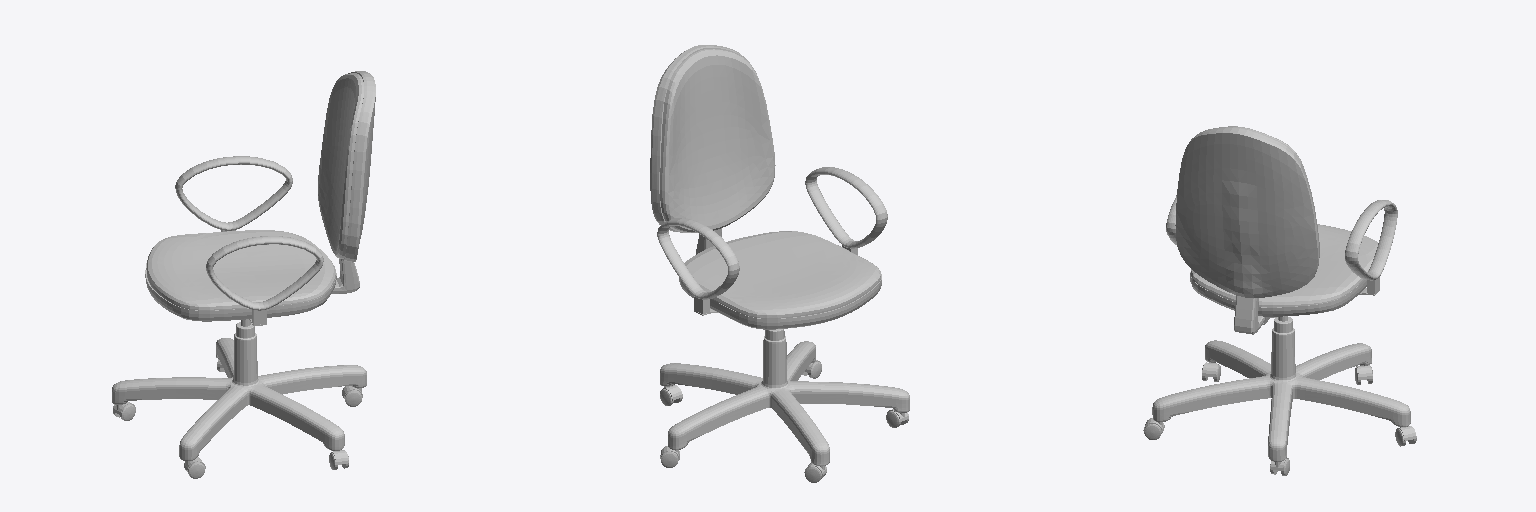
File: Cadeira.obj
3 views of the same model, side by side, from view 1: azimuth 30°, elevation 25°; view 2: azimuth 150°, elevation 25°; view 3: azimuth 270°, elevation 25° (orthographic).
Visible parts, largest first — view 1: Material1-material-material, Material3-material-material, Material4-material-material, Material2-material-material, Material0-material-material; view 2: Material1-material-material, Material3-material-material, Material4-material-material, Material2-material-material, Material0-material-material; view 3: Material2-material-material, Material3-material-material, Material1-material-material, Material4-material-material, Material0-material-material.
Boxes of the visible parts, x1,y1,x2,y2 form: Material1-material-material: [146, 73, 363, 310]; Material3-material-material: [112, 322, 366, 460]; Material4-material-material: [175, 156, 359, 324]; Material2-material-material: [145, 71, 375, 321]; Material0-material-material: [113, 319, 362, 478]; Material1-material-material: [660, 49, 880, 318]; Material3-material-material: [660, 329, 909, 465]; Material4-material-material: [657, 167, 887, 313]; Material2-material-material: [650, 45, 881, 329]; Material0-material-material: [660, 309, 908, 482]; Material2-material-material: [1175, 127, 1366, 316]; Material3-material-material: [1152, 317, 1410, 461]; Material1-material-material: [1190, 126, 1377, 307]; Material4-material-material: [1166, 195, 1397, 334]; Material0-material-material: [1143, 288, 1416, 475].
Size of the model in its own units: 0.7046 by 1.07 by 0.7705.